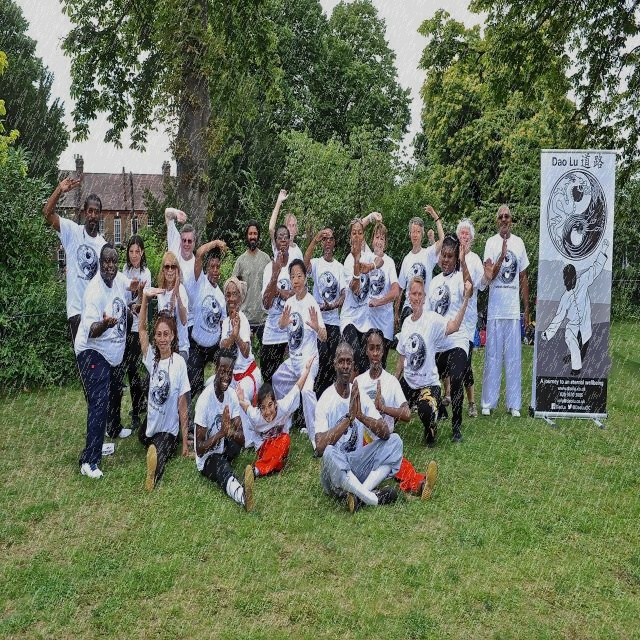pessoa: (72, 241, 144, 484), (40, 174, 110, 410), (314, 340, 404, 515), (352, 326, 439, 504), (427, 216, 495, 420), (394, 274, 472, 448), (270, 258, 328, 460), (137, 286, 192, 492), (481, 201, 532, 423), (234, 352, 318, 480), (424, 232, 474, 444), (193, 346, 256, 514), (538, 240, 608, 388), (260, 223, 308, 434), (164, 206, 206, 402), (392, 201, 446, 350), (338, 216, 385, 386), (156, 251, 196, 448), (218, 274, 262, 450), (302, 222, 346, 387), (186, 238, 228, 402), (360, 210, 400, 372), (122, 233, 152, 427), (230, 218, 272, 348), (268, 188, 304, 264)
